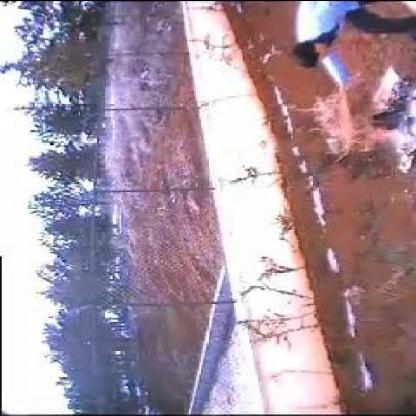foggia-v2-map80-epoch100 - v1 4323: (315, 91, 382, 152)
